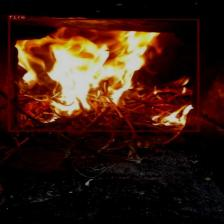fire: (8, 19, 199, 131)
